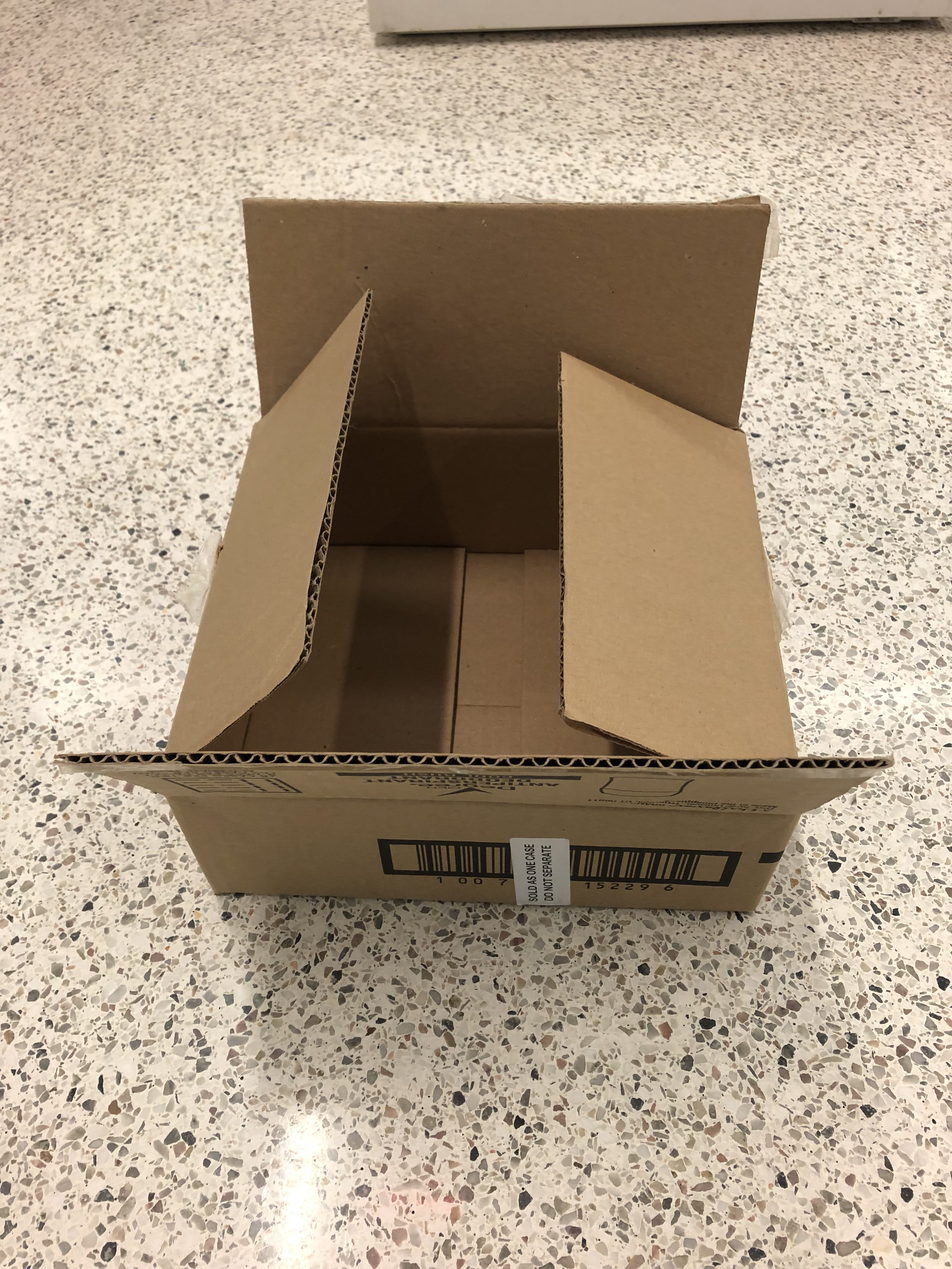box: (43, 198, 887, 910)
crushed: (46, 201, 888, 806)
